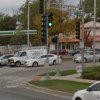Car: (22, 51, 62, 67)
